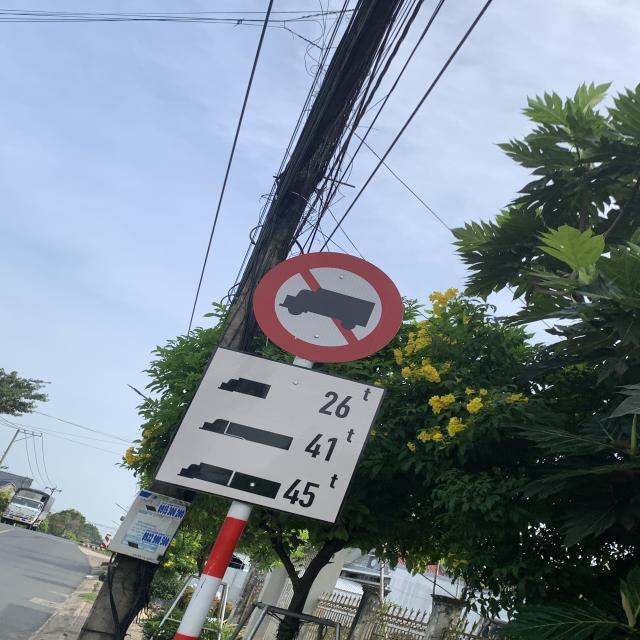Cam_Xe_Tai: (255, 252, 404, 364)
